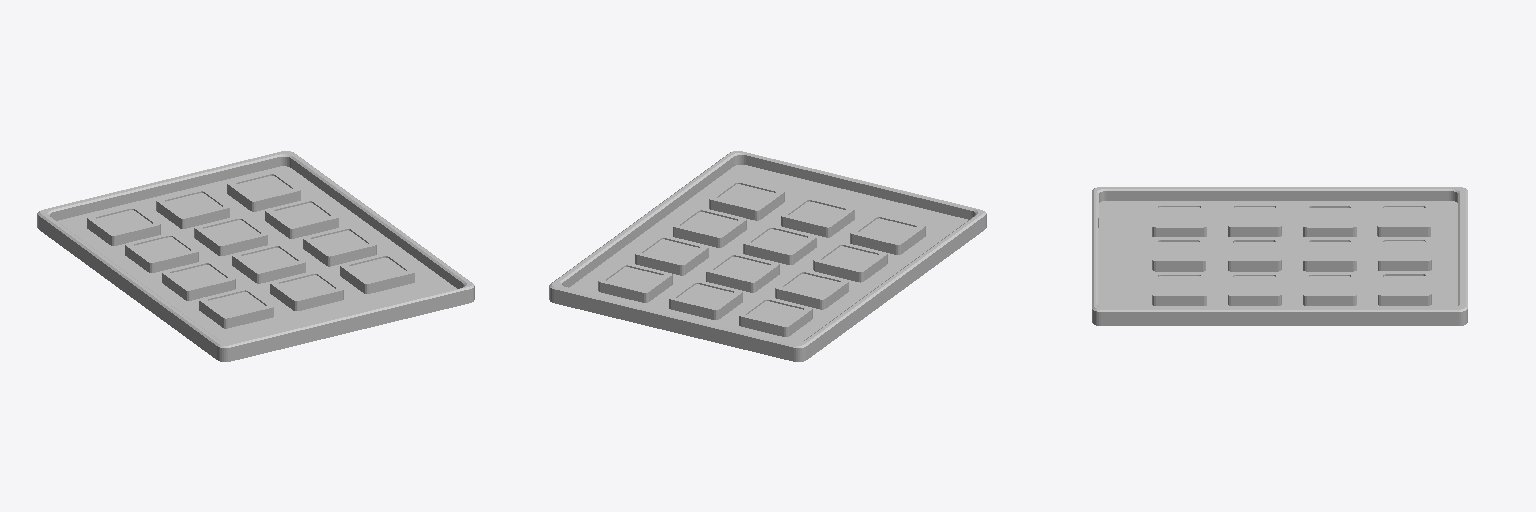
The model's file is button_console.obj.
3 views of the same model, side by side, from view 1: azimuth 30°, elevation 25°; view 2: azimuth 150°, elevation 25°; view 3: azimuth 270°, elevation 25° (orthographic).
Parts seen in each view (by area): view 1: BUTTON_CONSOLE_01; view 2: BUTTON_CONSOLE_01; view 3: BUTTON_CONSOLE_01.
Boxes of the visible parts, x1,y1,x2,y2 form: BUTTON_CONSOLE_01: [37, 151, 474, 361]; BUTTON_CONSOLE_01: [549, 151, 986, 361]; BUTTON_CONSOLE_01: [1092, 187, 1467, 325].
Bounding box in the file's own units: 5.06 × 0.2928 × 6.44.